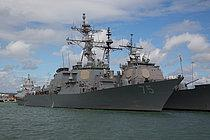MIL_Ship: (13, 13, 184, 115), (119, 30, 210, 111)
